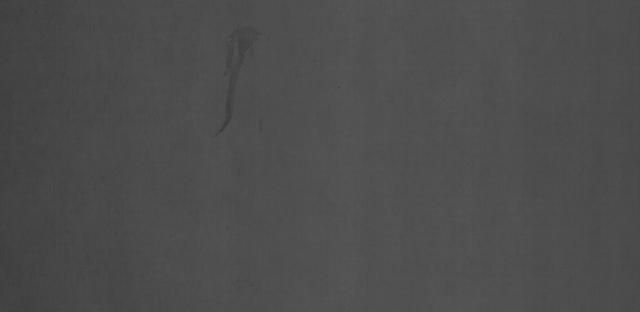water_spot: (190, 20, 268, 140)
